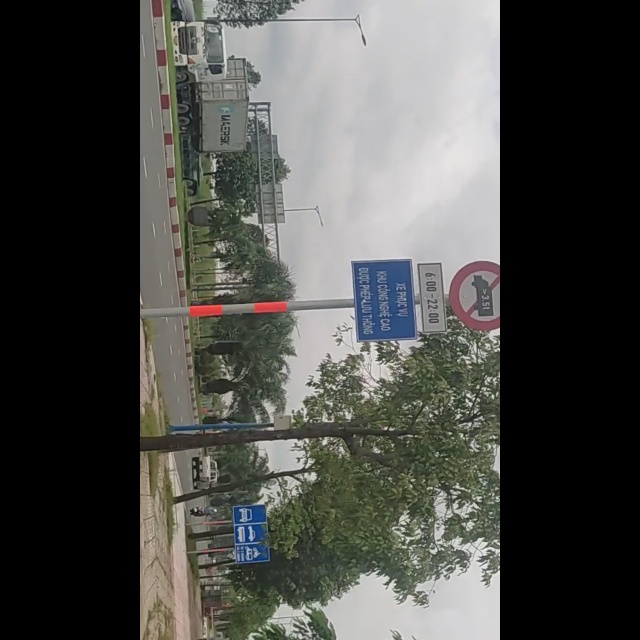bien_cam: (161, 505, 239, 563)
